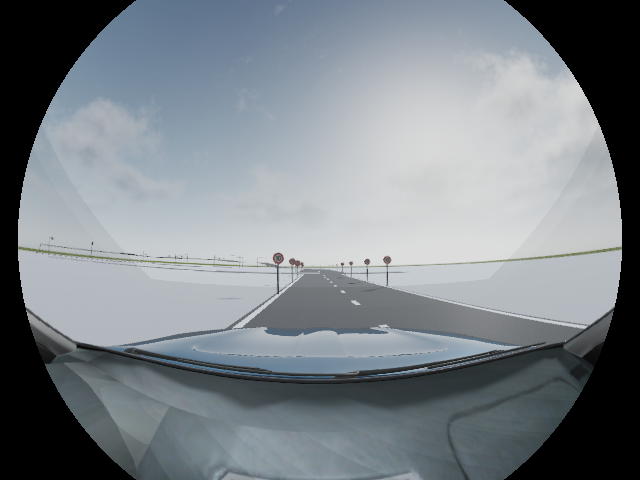Speed Limit 10: (273, 252, 283, 264)
